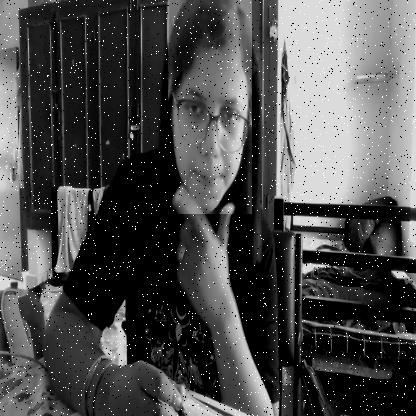Normal: (168, 0, 252, 214)
